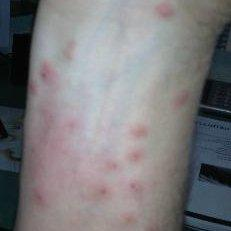Fleas: (33, 60, 59, 86), (126, 122, 148, 140), (170, 91, 186, 114), (124, 147, 143, 166), (61, 40, 76, 64), (94, 182, 113, 200), (129, 180, 142, 200), (123, 214, 139, 230), (106, 162, 121, 177), (36, 187, 47, 207), (28, 81, 40, 94)
